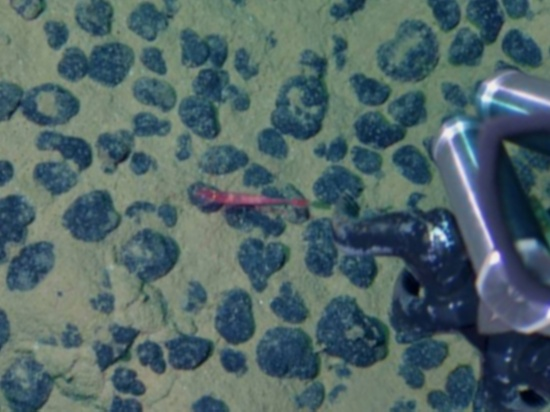halobolite: (108, 215, 184, 291), (260, 69, 330, 149), (426, 211, 499, 276), (395, 270, 465, 334), (317, 300, 376, 362), (162, 317, 219, 376), (35, 120, 99, 168), (24, 335, 76, 392), (7, 237, 56, 294), (384, 24, 437, 76), (317, 227, 368, 279), (208, 288, 264, 335), (237, 235, 287, 287), (32, 160, 83, 210), (261, 329, 314, 377), (352, 177, 401, 226), (85, 284, 147, 322), (433, 358, 479, 406), (78, 185, 121, 236), (226, 206, 288, 240), (306, 170, 361, 207), (23, 82, 68, 127), (89, 37, 133, 83), (41, 309, 82, 357), (130, 76, 183, 113), (373, 239, 417, 283), (453, 2, 515, 33), (498, 31, 546, 71), (127, 191, 178, 228), (35, 13, 75, 60), (197, 177, 234, 224), (179, 172, 228, 206), (289, 376, 335, 412), (389, 88, 432, 126), (442, 29, 486, 66), (346, 71, 393, 105), (401, 338, 445, 374), (290, 35, 333, 71), (172, 273, 207, 317), (389, 374, 429, 412), (117, 312, 163, 345), (396, 148, 437, 185), (353, 113, 401, 144), (183, 99, 222, 136), (193, 69, 238, 101), (77, 3, 115, 40), (347, 144, 388, 177), (275, 285, 305, 329), (218, 346, 258, 379), (113, 361, 151, 395), (310, 135, 354, 164), (128, 113, 177, 139), (111, 162, 154, 190), (252, 146, 295, 174), (184, 30, 222, 61), (96, 131, 130, 165), (1, 155, 32, 190), (306, 105, 335, 142), (331, 1, 368, 29), (132, 9, 171, 34), (270, 176, 300, 208), (197, 138, 233, 164), (442, 78, 473, 108), (1, 196, 19, 244), (1, 303, 20, 347), (8, 1, 41, 26), (77, 376, 112, 399), (198, 390, 233, 412), (81, 350, 107, 375), (72, 394, 96, 412), (1, 68, 11, 93)
